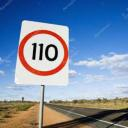speed_limit_110: (20, 30, 68, 76)
